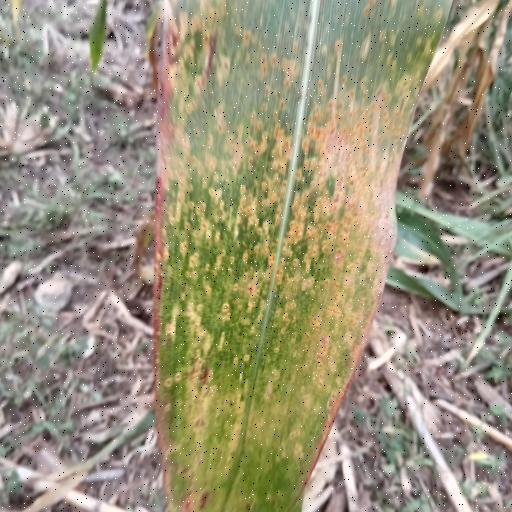Corn_Rust: (135, 0, 437, 512)
